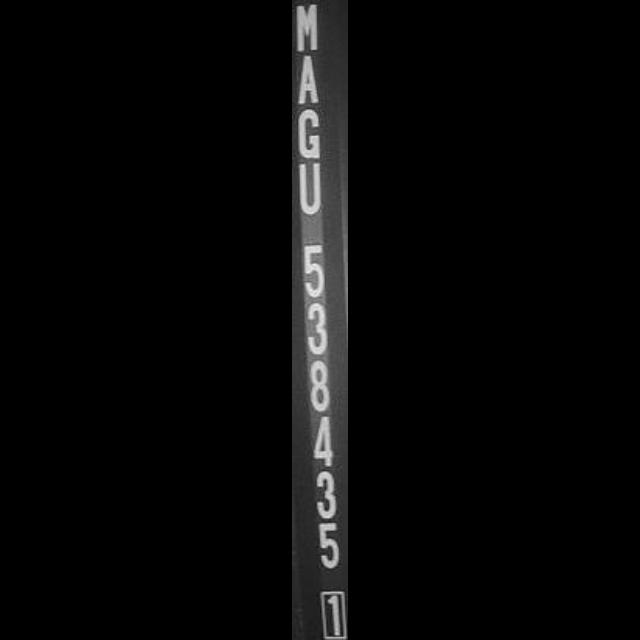1: (320, 580, 348, 640)
3: (294, 298, 336, 362), (311, 470, 343, 516)
4: (307, 412, 338, 478)
5: (296, 237, 334, 303), (316, 516, 344, 574)
8: (302, 357, 338, 418)
a: (292, 56, 326, 108)
g: (292, 105, 328, 159)
m: (292, 0, 328, 56)
u: (292, 156, 332, 218)
